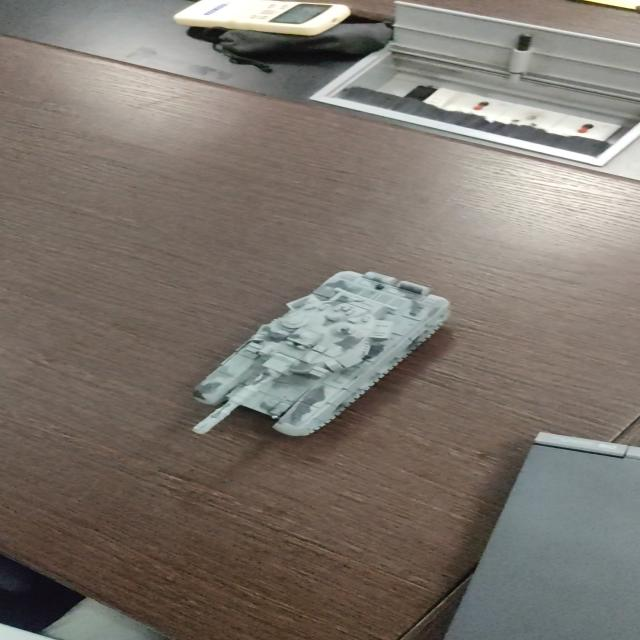tank: (179, 260, 463, 443)
